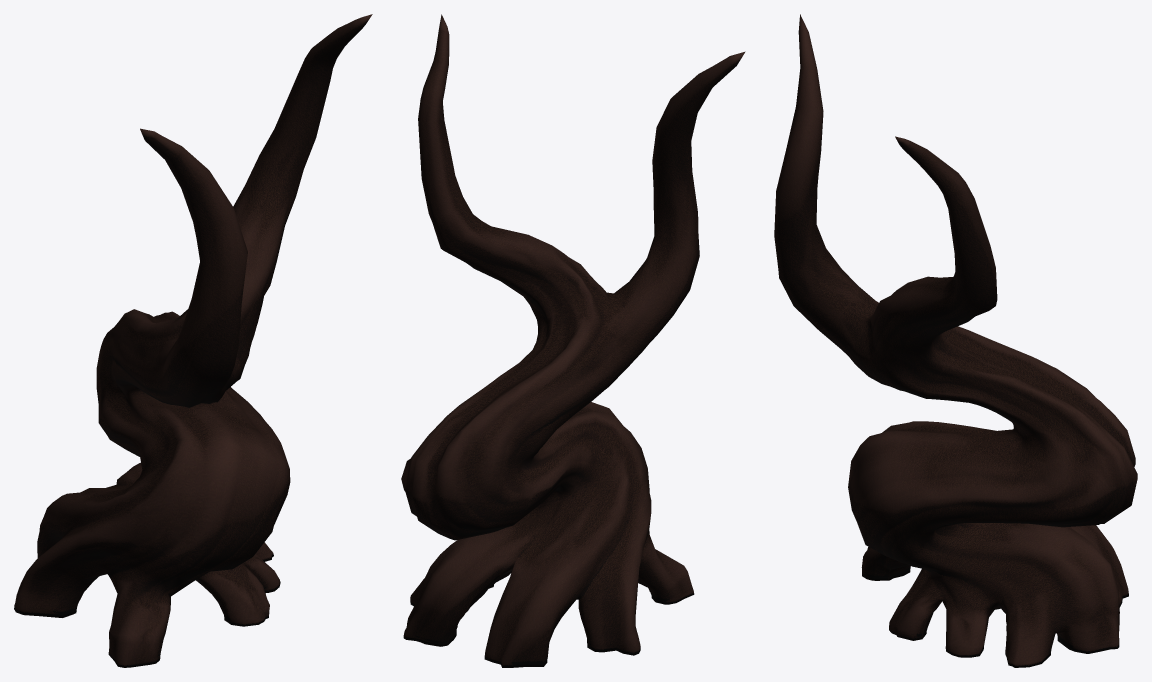
The model's file is MagicTree.glb.
3 renders of one model, left to right at view 1: azimuth 30°, elevation 25°; view 2: azimuth 150°, elevation 25°; view 3: azimuth 270°, elevation 25°, orthographic. The views are drawn at different scales.
Visible parts, largest first — view 1: Tree; view 2: Tree; view 3: Tree.
Boxes of the visible parts, x1,y1,x2,y2 form: Tree: (14, 14, 372, 667); Tree: (401, 14, 745, 667); Tree: (774, 14, 1137, 667).
Bounding box in the file's own units: 4.24 × 8.2 × 4.93.
Materials: 1 (1 with a texture image).
